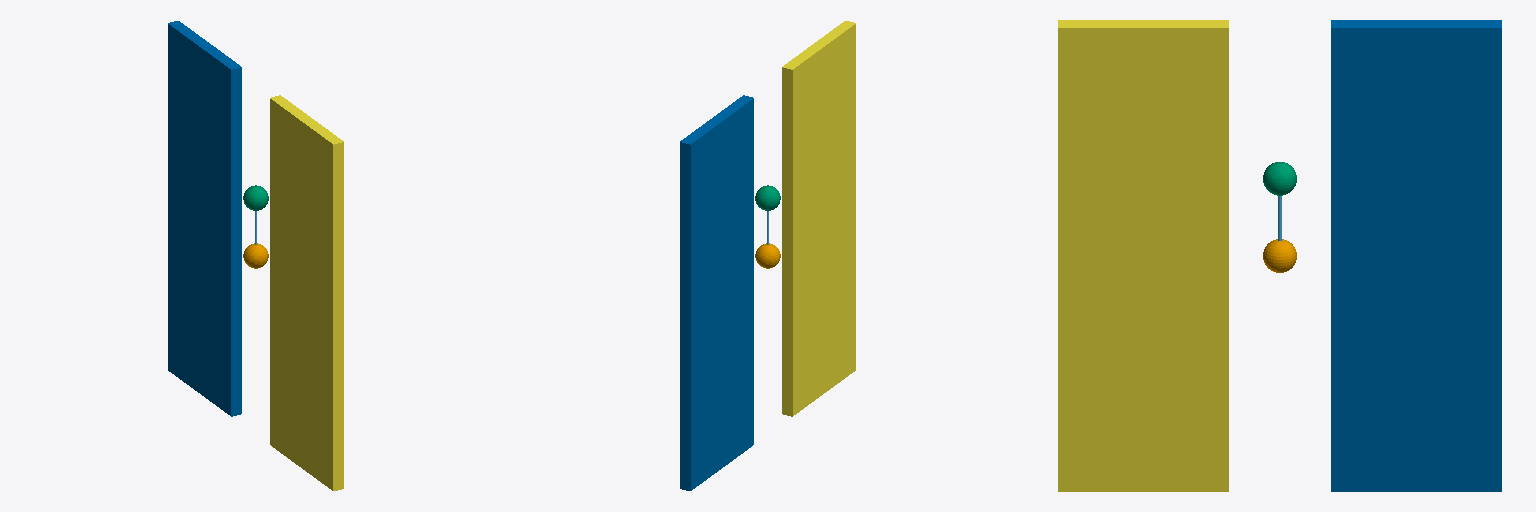
robot.urdf — Lrobot:
<?xml version="1.0" ?>
<!-- =================================================================================== -->
<!-- |    This document was autogenerated by xacro from quadrotor_base.xacro           | -->
<!-- |    EDITING THIS FILE BY HAND IS NOT RECOMMENDED                                 | -->
<!-- =================================================================================== -->
<robot name="Lrobot" xmlns:xacro="http://www.ros.org/wiki/xacro">

  <link name="point_mass">
    <visual>
      <origin rpy="0 0 0" xyz="0 0 0"/>
      <geometry>
      <sphere radius="0.1"/>
      </geometry>
    </visual>

    <collision>
      <origin rpy="0 0 0" xyz="0 0 0"/>
      <geometry>
      <sphere radius="0.1"/>
      </geometry>
    </collision>


  </link>

  <link name="cable_1">
    <visual>
      <origin rpy="0 0 0" xyz="0 0 .25"/>
      <geometry>
      <cylinder length="0.5" radius="0.01"/>
      </geometry>
    </visual>

    <collision>
      <origin rpy="0 0 0" xyz="0 0 .25"/>
      <geometry>
      <cylinder length="0.5" radius="0.01"/>
      </geometry>
    </collision>

  </link>

  <link name="robot_1">
    <visual>
      <origin rpy="0 0 0" xyz="0 0 0"/>
      <geometry>
      <sphere radius="0.1"/>
      </geometry>
    </visual>

    <collision>
      <origin rpy="0 0 0" xyz="0 0 0"/>
      <geometry>
      <sphere radius="0.1"/>
      </geometry>
    </collision>


  </link>

  <link name="cable_2">
    <visual>
      <origin rpy="0 0 0" xyz="0 0 .25"/>
      <geometry>
      <cylinder length="0.5" radius="0.01"/>
      </geometry>
    </visual>
  </link>


  <link name="robot_2">
    <origin rpy="0 0 0" xyz="0 0 .25"/>
    <visual>
      <origin rpy="0 0 0" xyz="0 0 0"/>
      <geometry>
      <sphere radius="0.1"/>
      </geometry>
    </visual>

    <collision>
      <origin rpy="0 0 0" xyz="0 0 0"/>
      <geometry>
      <sphere radius="0.1"/>
      </geometry>
    </collision>


  </link>



  <link name="world">
  </link>


  <link name="x_link">
  </link>

  <link name="y_link">
  </link>

  <link name="z_link">
  </link>

  <joint name="x_j" type="prismatic">
  <parent link="world"/>
  <child link="x_link"/>
  <axis xyz="1 0 0"/>
  <limit effort="1000.0" lower="-2.0" upper="2.0" velocity="1.0"/>
  </joint>

  <joint name="y_j" type="prismatic">
  <parent link="x_link"/>
  <child link="y_link"/>
  <axis xyz="0 1 0"/>
  <limit effort="1000.0" lower="-2.0" upper="2.0" velocity="1.0"/>
  </joint>

  <joint name="z_j" type="prismatic">
  <parent link="y_link"/>
  <child link="z_link"/>
  <axis xyz="0 0 1"/>
  <limit effort="1000.0" lower="-2.0" upper="2.0" velocity="1.0"/>
  </joint>


  <joint name="base_j" type="fixed">
    <parent link="z_link"/>
    <child link="point_mass"/>
  </joint>

  <link name="_cable_1">
  </link>

  <link name="_cable_2">
  </link>

  <joint name="_cable_1j" type="revolute">
    <parent link="point_mass"/>
    <child link="_cable_1"/>
    <axis xyz="0 1 0"/>
    <limit effort="1000.0" lower="-3.14159" upper="3.14159" velocity="1.0"/>
  </joint>

  <joint name="_cable_2j" type="revolute">
    <parent link="point_mass"/>
    <child link="_cable_2"/>
    <axis xyz="0 1 0"/>
    <limit effort="1000.0" lower="-3.14159" upper="3.14159" velocity="1.0"/>
  </joint>

  <joint name="cable_1j" type="revolute">
    <parent link="_cable_1"/>
    <child link="cable_1"/>
    <axis xyz="1 0 0"/>
    <limit effort="1000.0" lower="-3.14159" upper="3.14159" velocity="1.0"/>
  </joint>

  <joint name="cable_2j" type="revolute">
    <parent link="_cable_2"/>
    <child link="cable_2"/>
    <axis xyz="1 0 0"/>
    <limit effort="1000.0" lower="-3.14159" upper="3.14159" velocity="1.0"/>
  </joint>

  <joint name="robot_1j" type="fixed">
    <parent link="cable_1"/>
    <child link="robot_1"/>
    <origin rpy="0 0 0" xyz="0 0 0.5"/>
  </joint>

  <joint name="robot_2j" type="fixed">
    <parent link="cable_2"/>
    <child link="robot_2"/>
    <origin rpy="0 0 0" xyz="0 0 0.5"/>
  </joint>

  <link name="obs1">
    <visual>
      <origin rpy="0 0 0" xyz="0 -0.8 0"/>
      <geometry>
      <box size="0.1 1 3"/>
      </geometry>
    </visual>

    <collision>
      <origin rpy="0 0 0" xyz="0 -0.8 0"/>
      <geometry>
      <box size="0.1 1 3"/>
      </geometry>
    </collision>

  </link>

  <link name="obs2">
    <visual>
      <origin rpy="0 0 0" xyz="0 0.8 0"/>
      <geometry>
      <box size="0.1 1 3"/>
      </geometry>
    </visual>

    <collision>
      <origin rpy="0 0 0" xyz="0 0.8 0"/>
      <geometry>
      <box size="0.1 1 3"/>
      </geometry>
    </collision>


  </link>

  <joint name="obs1_j" type="fixed">
  <parent link="world"/>
  <child link="obs1"/>
  </joint>

  <joint name="obs2_j" type="fixed">
    <parent link="world"/>
    <child link="obs2"/>
  </joint>




</robot>

--- What the picture shows (computed from the rendered views, not written in the file) ---
The picture shows the robot from 3 angles, left to right: view 1: azimuth 30°, elevation 25°; view 2: azimuth 150°, elevation 25°; view 3: azimuth 270°, elevation 25°; orthographic projection.
Model Lrobot with 13 links and 12 joints (4 revolute, 3 prismatic, 5 fixed), rooted at world, posed all joints at 0.
Links seen in each view (by area): view 1: obs1, obs2; view 2: obs1, obs2; view 3: obs1, obs2, robot_1, point_mass.
Link boxes in pixels (x1,y1,x2,y2): obs1: [270, 95, 343, 490]; obs2: [168, 21, 241, 416]; obs1: [782, 21, 855, 416]; obs2: [680, 95, 753, 490]; obs1: [1058, 20, 1228, 491]; obs2: [1331, 20, 1501, 491]; robot_1: [1263, 162, 1296, 195]; point_mass: [1263, 239, 1296, 272].
Bounding box of the posed robot: 0.2 × 2.6 × 3 m (x, y, z).
Geometry: primitives only (box / cylinder / sphere), no mesh files.